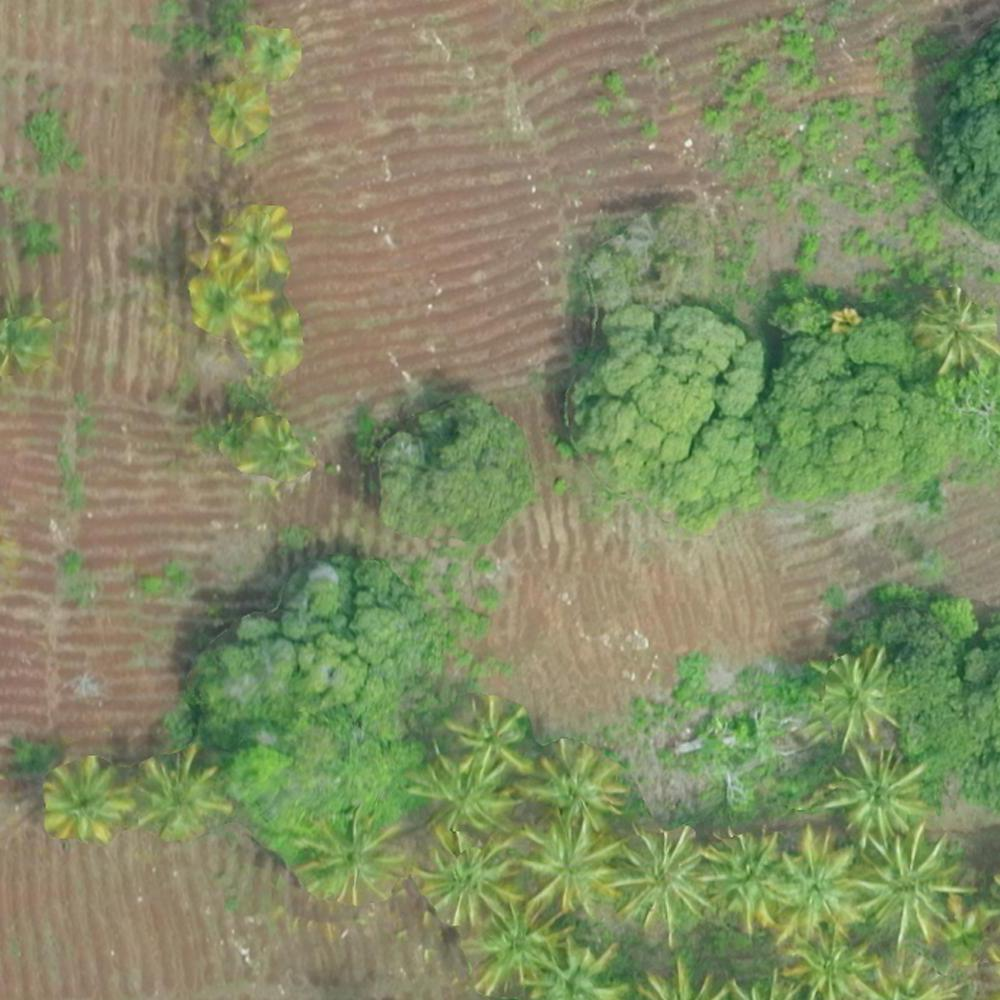Palm: (852, 834, 961, 941), (618, 824, 718, 928), (772, 822, 863, 931), (831, 744, 930, 841), (412, 833, 517, 923), (696, 830, 790, 928), (300, 809, 403, 898), (468, 899, 566, 992), (519, 823, 621, 912), (411, 757, 514, 841), (527, 738, 620, 830), (133, 750, 229, 831), (810, 654, 895, 745), (913, 288, 999, 375), (785, 923, 876, 1000), (44, 758, 129, 839), (446, 698, 532, 774), (186, 260, 263, 334), (226, 206, 293, 278), (208, 79, 270, 146), (244, 26, 311, 83)
